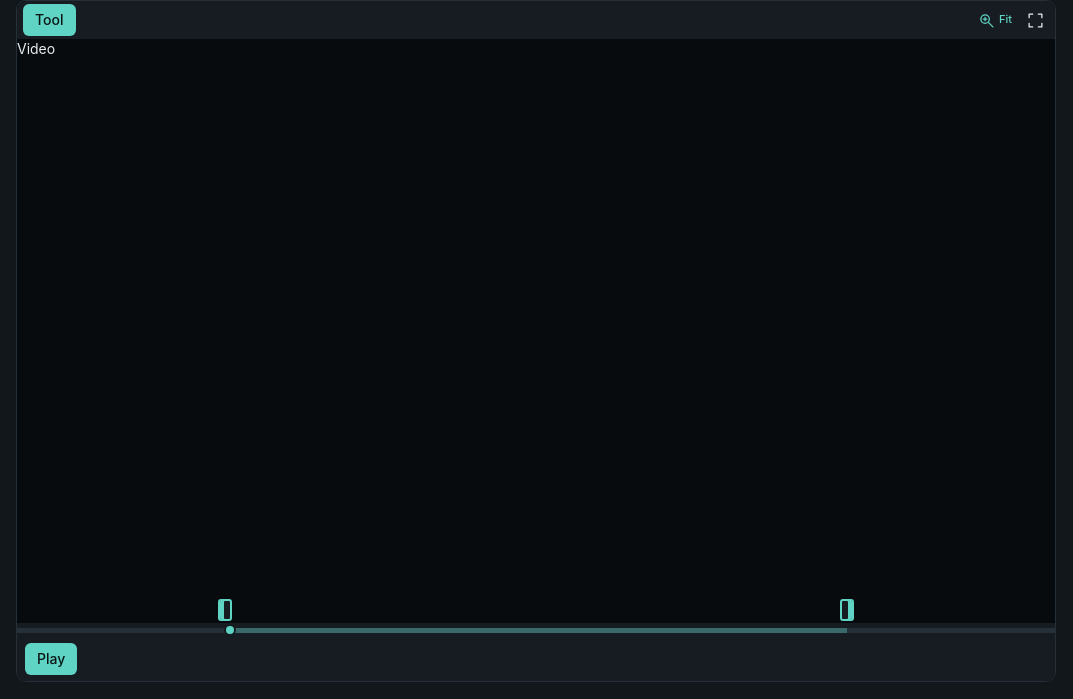
Test: recovers a desktop fullscreen request rejected after user activation was lost
Step 1. Click the button named "Enter fullscreen" → (1035, 20), box [1021,7,1049,33]
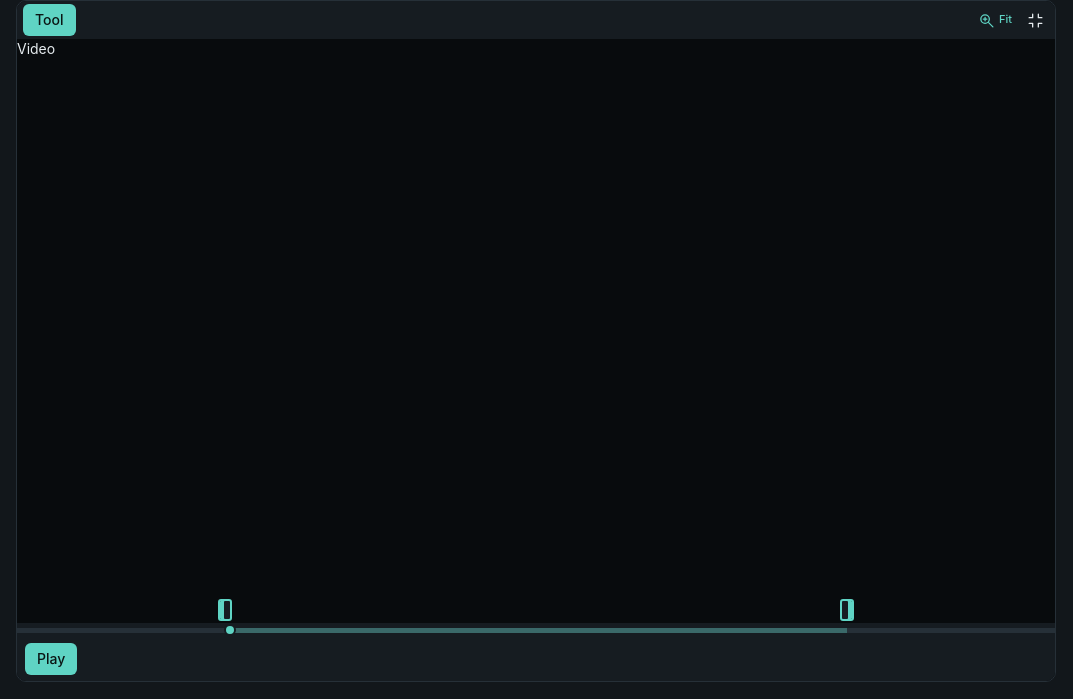
Expected: the button named "Exit fullscreen" is shown, [1021,7,1049,33]
